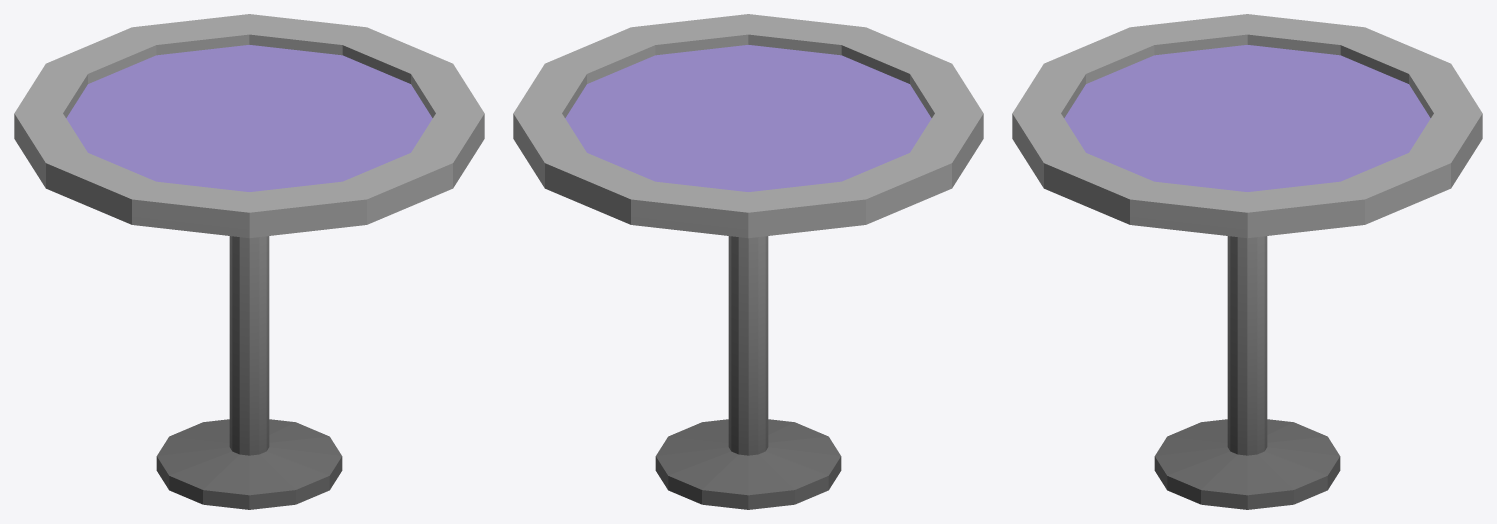
Rendered from Nightclub_Table.fbx.
3 views of the same model, side by side, from view 1: azimuth 30°, elevation 25°; view 2: azimuth 150°, elevation 25°; view 3: azimuth 270°, elevation 25° (orthographic).
Parts seen in each view (by area): view 1: Circle.004; view 2: Circle.004; view 3: Circle.004.
Part boxes in pixels (x1,y1,x2,y2): Circle.004: (14, 14, 484, 509); Circle.004: (513, 14, 983, 509); Circle.004: (1012, 14, 1482, 509).
Size of the model in its own units: 143 by 120 by 143.
